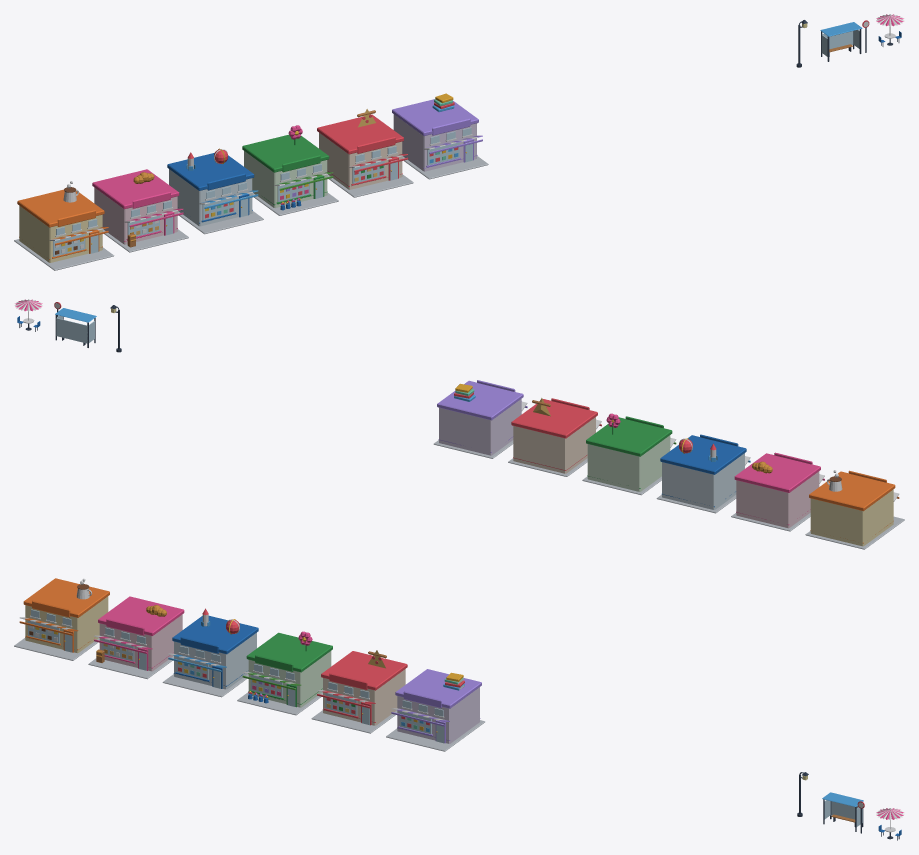
File: town-shops.glb
3 renders of one model, top to bottom at view 1: azimuth 30°, elevation 25°; view 2: azimuth 150°, elevation 25°; view 3: azimuth 330°, elevation 25°, orthographic.
Parts seen in each view (by area): view 1: shop_cafe_mesh, shop_flowers_mesh, shop_pizza_mesh, shop_toys_mesh, shop_books_mesh, shop_bakery_mesh, busstop_mesh; view 2: shop_cafe_mesh, shop_flowers_mesh, shop_pizza_mesh, shop_toys_mesh, shop_books_mesh, shop_bakery_mesh, busstop_mesh; view 3: shop_books_mesh, shop_flowers_mesh, shop_pizza_mesh, shop_toys_mesh, shop_cafe_mesh, shop_bakery_mesh, busstop_mesh.
Boxes of the visible parts, x1,y1,x2,y2 form: shop_cafe_mesh: (14,181,114,270); shop_flowers_mesh: (242,125,338,215); shop_pizza_mesh: (317,109,413,197); shop_toys_mesh: (167,148,263,234); shop_books_mesh: (392,93,488,179); shop_bakery_mesh: (92,169,188,252); busstop_mesh: (820,20,869,61); shop_cafe_mesh: (805,470,904,549); shop_flowers_mesh: (582,413,676,495); shop_pizza_mesh: (508,398,601,476); shop_toys_mesh: (656,434,750,513); shop_books_mesh: (433,380,527,458); shop_bakery_mesh: (731,452,824,531); busstop_mesh: (54,302,96,347); shop_books_mesh: (386,669,485,751); shop_flowers_mesh: (237,631,332,715); shop_pizza_mesh: (311,650,407,733); shop_toys_mesh: (162,608,258,697); shop_cafe_mesh: (14,578,109,660); shop_bakery_mesh: (88,596,184,679); busstop_mesh: (822,792,864,833).
Size of the model in its own units: 81.5 by 5.45 by 6.6.
